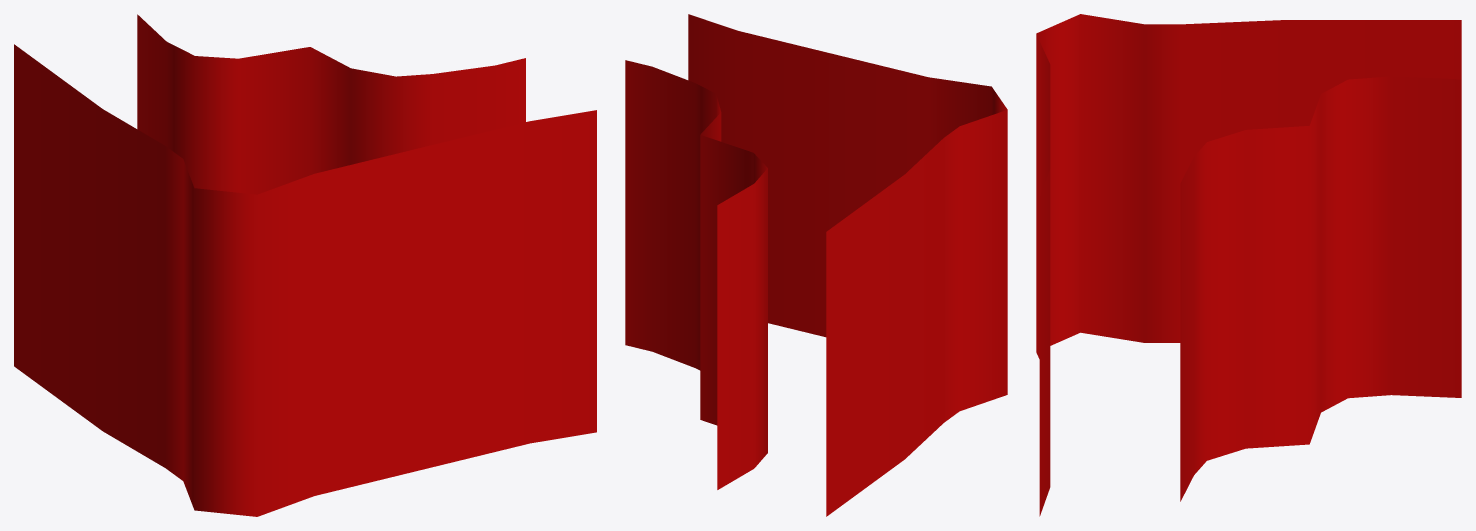
3 views of the same model, side by side, from view 1: azimuth 30°, elevation 25°; view 2: azimuth 150°, elevation 25°; view 3: azimuth 270°, elevation 25° (orthographic). The views are drawn at different scales.
Visible parts, largest first — view 1: BG001_1027_00_c02; view 2: BG001_1027_00_c02; view 3: BG001_1027_00_c02.
Part boxes in pixels (box(x1,y1,x2,y2)): BG001_1027_00_c02: box(14, 14, 596, 516); BG001_1027_00_c02: box(625, 14, 1007, 516); BG001_1027_00_c02: box(1036, 14, 1461, 516).
Size of the model in its own units: 1240 by 1000 by 1210.
